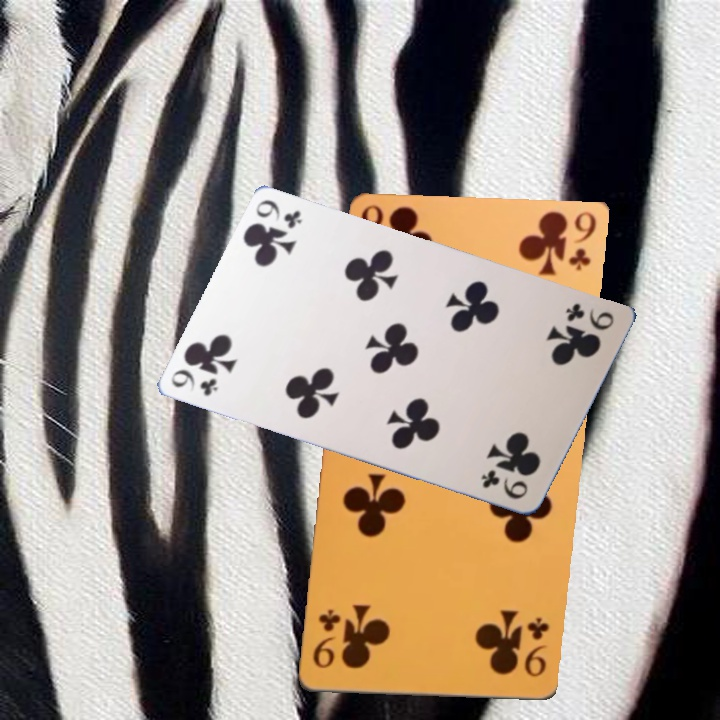9c: (475, 467, 540, 506), (251, 196, 316, 235), (561, 299, 625, 338), (166, 364, 230, 403), (308, 608, 342, 680), (519, 616, 553, 687)
